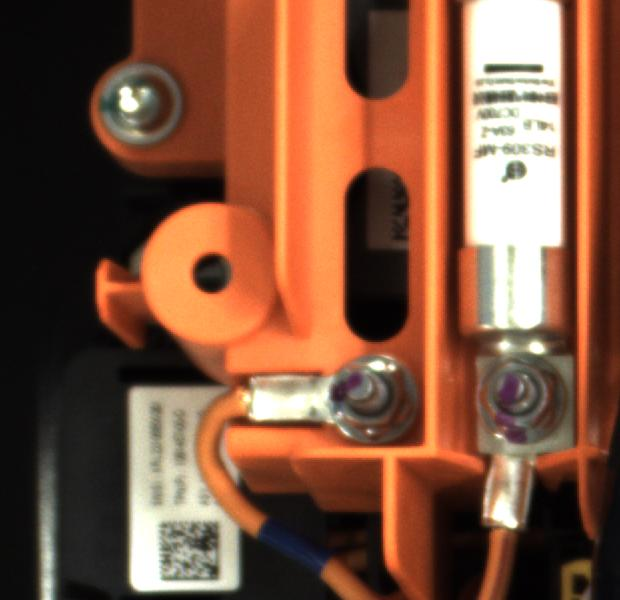screw_m: (89, 49, 196, 154)
screw_s: (469, 345, 575, 456), (322, 350, 416, 437)
